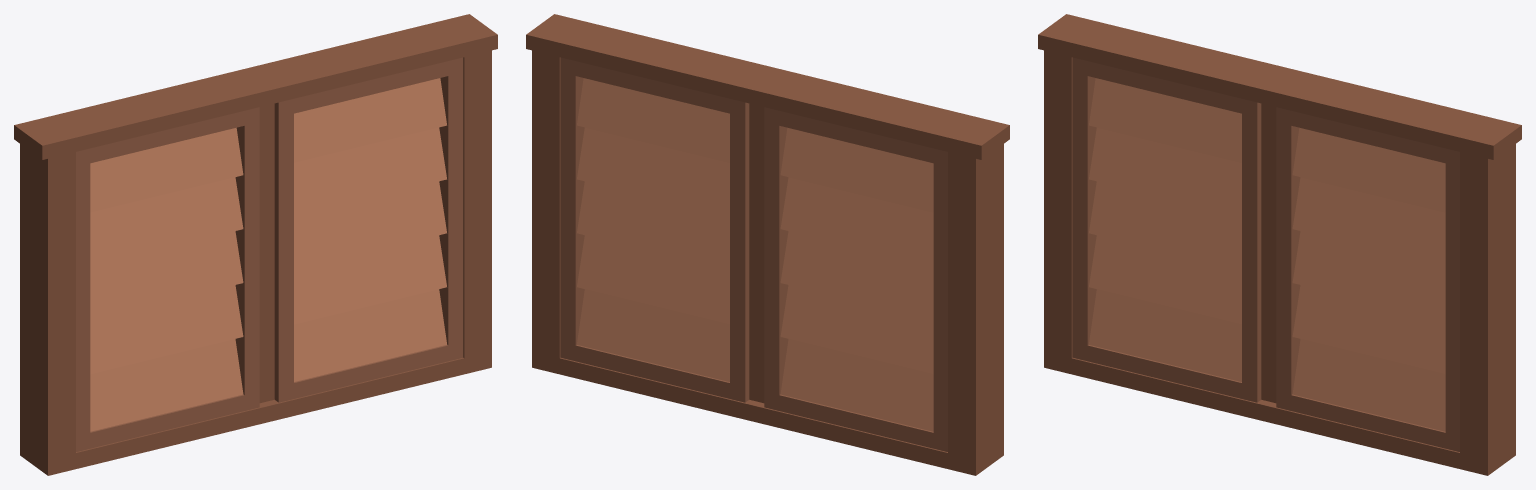
File: LightWoodBuildingSmallChaletWindow1.fbx
3 views of the same model, side by side, from view 1: azimuth 30°, elevation 25°; view 2: azimuth 150°, elevation 25°; view 3: azimuth 330°, elevation 25° (orthographic).
Visible parts, largest first — view 1: LightWoodBuildingSmallChaletWindow1; view 2: LightWoodBuildingSmallChaletWindow1; view 3: LightWoodBuildingSmallChaletWindow1.
Boxes of the visible parts, x1,y1,x2,y2 form: LightWoodBuildingSmallChaletWindow1: (14,14,497,475); LightWoodBuildingSmallChaletWindow1: (526,14,1009,475); LightWoodBuildingSmallChaletWindow1: (1038,14,1521,475).
Size of the model in its own units: 332 by 231 by 35.75.
